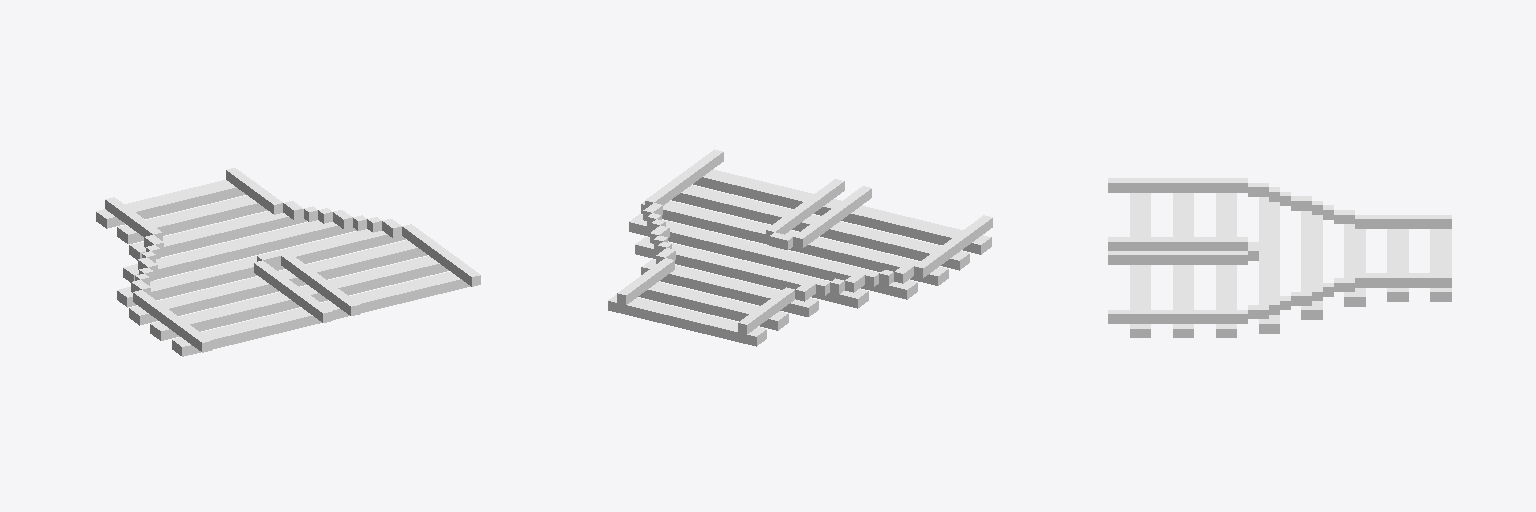
File: RailSplit.obj
3 renders of one model, left to right at view 1: azimuth 30°, elevation 25°; view 2: azimuth 150°, elevation 25°; view 3: azimuth 270°, elevation 25°, orthographic.
Parts seen in each view (by area): view 1: object 1; view 2: object 1; view 3: object 1.
Part boxes in pixels (left/top/right/bottom): object 1: left=96, top=168, right=480, bottom=356; object 1: left=608, top=149, right=992, bottom=346; object 1: left=1108, top=178, right=1451, bottom=337.
Size of the model in its own units: 3.2 by 0.2 by 3.2.